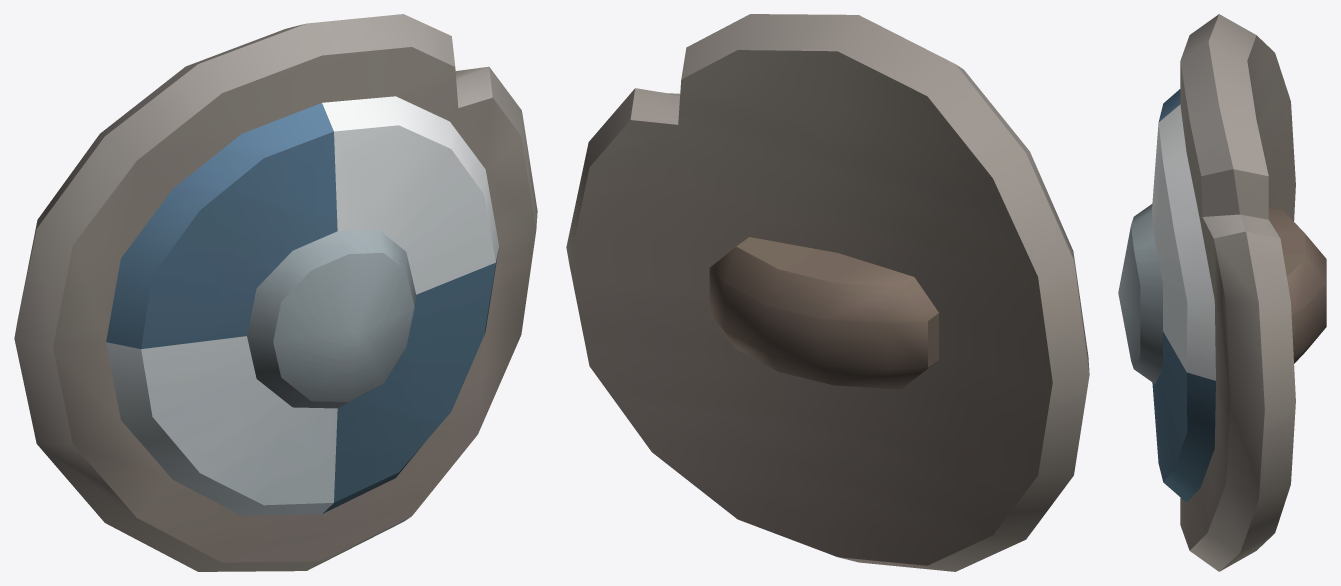
File: shield_round_barbarian.glb
The picture shows the model from 3 angles, left to right: view 1: azimuth 30°, elevation 25°; view 2: azimuth 150°, elevation 25°; view 3: azimuth 270°, elevation 25°; orthographic projection. The views are drawn at different scales.
Parts seen in each view (by area): view 1: shield_round_barbarian; view 2: shield_round_barbarian; view 3: shield_round_barbarian.
Part boxes in pixels (x1,y1,x2,y2): shield_round_barbarian: [14, 14, 537, 571]; shield_round_barbarian: [566, 14, 1089, 571]; shield_round_barbarian: [1118, 14, 1326, 571].
Bounding box in the file's own units: 0.8826 × 0.8826 × 0.332.
Materials: 1 (1 with a texture image).
